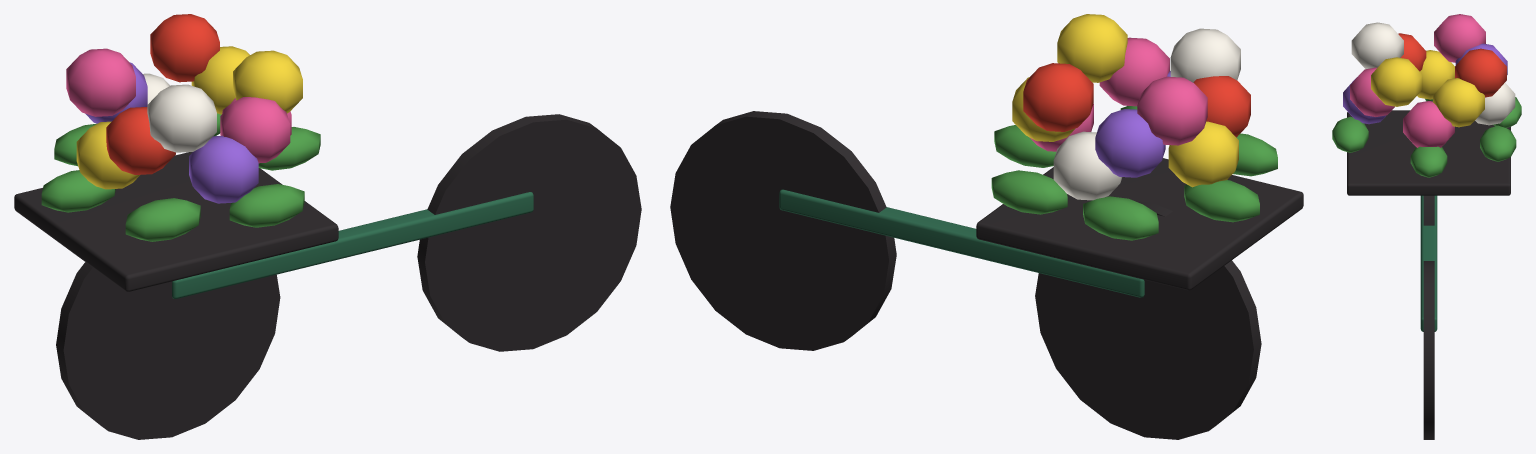
The model's file is flower_bike.glb.
3 renders of one model, left to right at view 1: azimuth 30°, elevation 25°; view 2: azimuth 150°, elevation 25°; view 3: azimuth 270°, elevation 25°, orthographic. The views are drawn at different scales.
Visible parts, largest first — view 1: Wheel.001, Wheel, Rack, Frame, Bloom.005, Bloom.008, Bloom.009, Bloom.002, Bloom.010, Bloom.011, Bloom.007, Leaf.004 (+7 smaller); view 2: Wheel.001, Wheel, Rack, Frame, Bloom.002, Bloom.005, Bloom.011, Bloom.004, Bloom.006, Bloom.003, Bloom.008, Bloom.010 (+7 smaller); view 3: Rack, Wheel.001, Bloom.011, Bloom.001, Bloom.008, Bloom, Bloom.002, Bloom.005, Frame, Bloom.010, Bloom.006, Leaf.001 (+8 smaller).
Part boxes in pixels (bbox=[...]): Wheel.001: bbox=[417, 114, 641, 351]; Wheel: bbox=[56, 262, 280, 439]; Rack: bbox=[14, 152, 338, 291]; Frame: bbox=[172, 192, 533, 298]; Bloom.005: bbox=[66, 48, 135, 116]; Bloom.008: bbox=[147, 84, 216, 152]; Bloom.009: bbox=[189, 135, 258, 203]; Bloom.002: bbox=[150, 14, 219, 82]; Bloom.010: bbox=[220, 97, 290, 163]; Bloom.011: bbox=[233, 50, 302, 113]; Bloom.007: bbox=[106, 107, 175, 174]; Leaf.004: bbox=[125, 198, 200, 241]; Wheel.001: bbox=[670, 111, 896, 350]; Wheel: bbox=[1035, 201, 1261, 439]; Rack: bbox=[976, 158, 1303, 290]; Frame: bbox=[779, 189, 1144, 297]; Bloom.002: bbox=[1023, 63, 1093, 131]; Bloom.005: bbox=[1137, 76, 1207, 145]; Bloom.011: bbox=[1057, 14, 1127, 82]; Bloom.004: bbox=[1095, 109, 1165, 177]; Bloom.006: bbox=[1168, 121, 1238, 187]; Bloom.003: bbox=[1053, 131, 1122, 200]; Bloom.008: bbox=[1170, 28, 1240, 82]; Bloom.010: bbox=[1099, 37, 1169, 106]; Rack: bbox=[1347, 110, 1510, 195]; Wheel.001: bbox=[1423, 261, 1434, 439]; Bloom.011: bbox=[1371, 57, 1422, 106]; Bloom.001: bbox=[1433, 78, 1484, 127]; Bloom.008: bbox=[1351, 22, 1403, 68]; Bloom: bbox=[1403, 101, 1454, 147]; Bloom.002: bbox=[1455, 48, 1506, 97]; Bloom.005: bbox=[1434, 14, 1485, 62]; Frame: bbox=[1420, 195, 1437, 331]; Bloom.010: bbox=[1350, 67, 1394, 116]; Bloom.006: bbox=[1417, 50, 1454, 99]; Leaf.001: bbox=[1480, 125, 1516, 161].
Bounding box in the file's own units: 1.79 × 1.1 × 0.6936.
